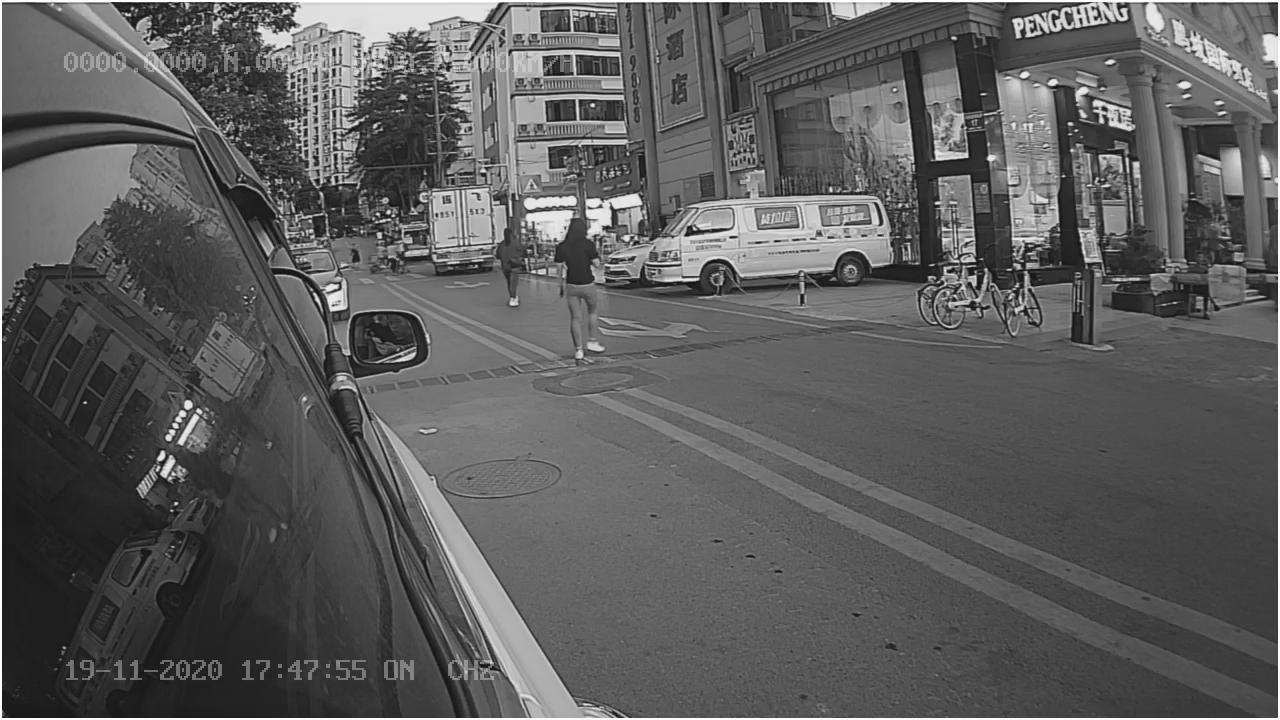person: (546, 210, 609, 370)
